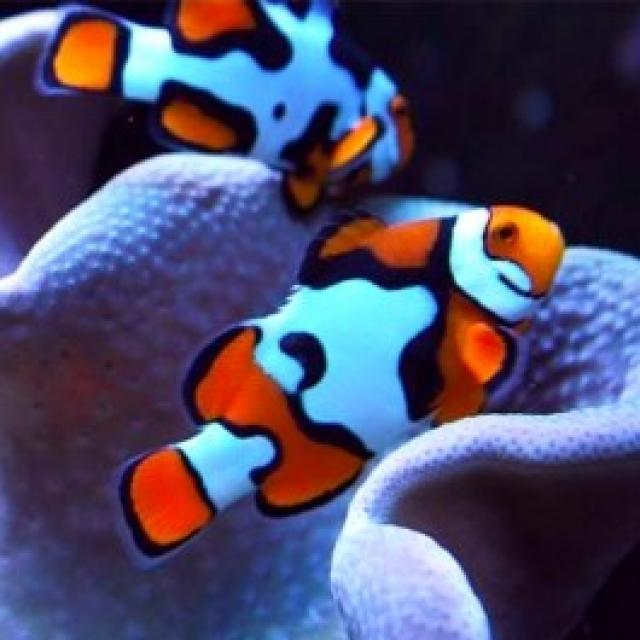ClownFish: (106, 205, 566, 568), (31, 5, 412, 194)
